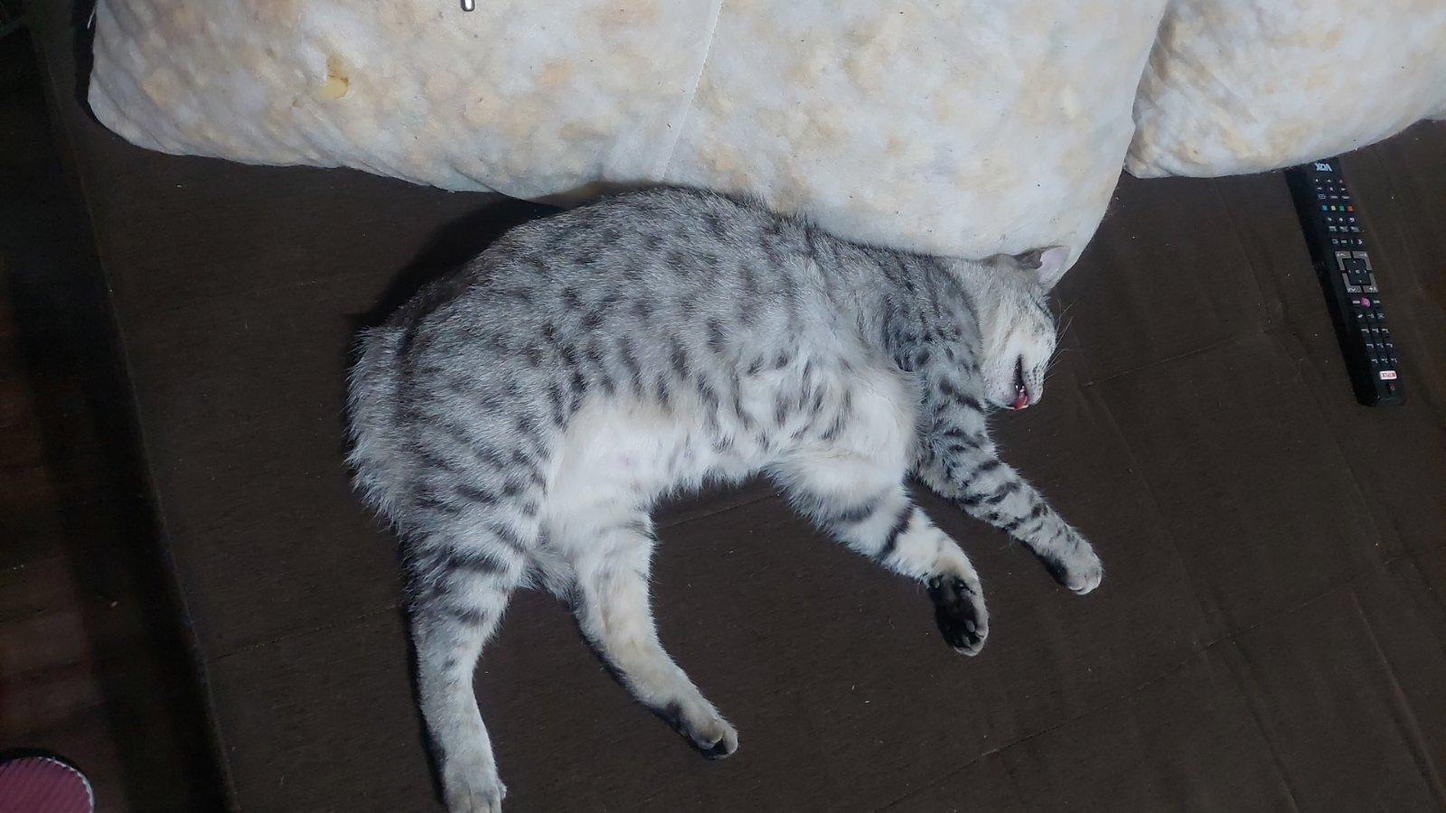macka: (351, 184, 1107, 812)
